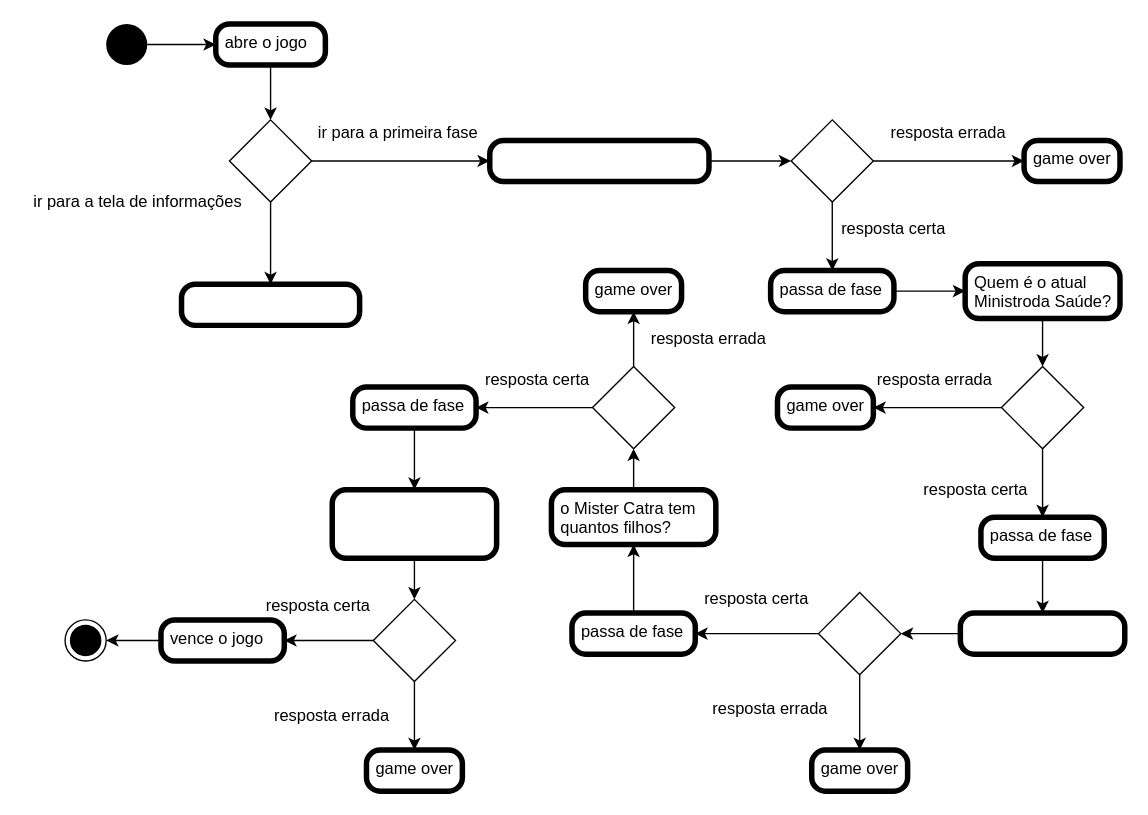
Some shapes in this 1148 by 815 pixel diagram are drawn without their labels. The centre of each missing label's shape, as x and y in pixels:
Bolsonaro gastou quantos com leite condensado?: [414,523]
informações do game: [270,304]
O que é Basculho?: [1042,633]
Qual a vacina mais eficaz?: [598,160]
